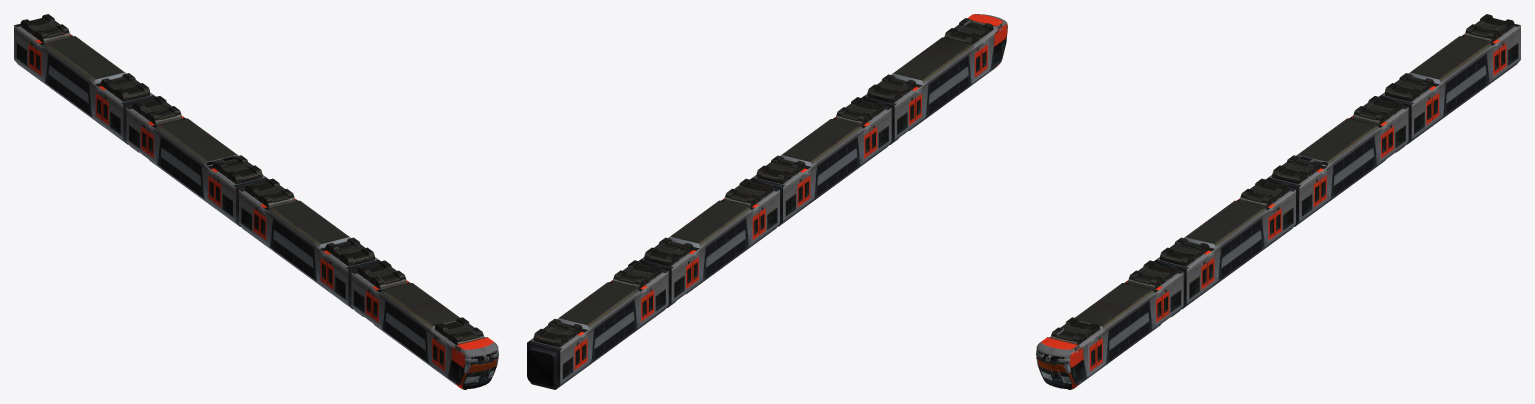
The model's file is 4 Carriage TRAIN.fbx.
3 views of the same model, side by side, from view 1: azimuth 30°, elevation 25°; view 2: azimuth 150°, elevation 25°; view 3: azimuth 330°, elevation 25° (orthographic).
Visible parts, largest first — view 1: Bake.002; view 2: Bake.002; view 3: Bake.002.
Part boxes in pixels (left/top/right/bottom): Bake.002: left=14, top=14, right=498, bottom=389; Bake.002: left=527, top=14, right=1007, bottom=389; Bake.002: left=1036, top=14, right=1520, bottom=389.
Size of the model in its own units: 5.08 by 121 by 7.04.
